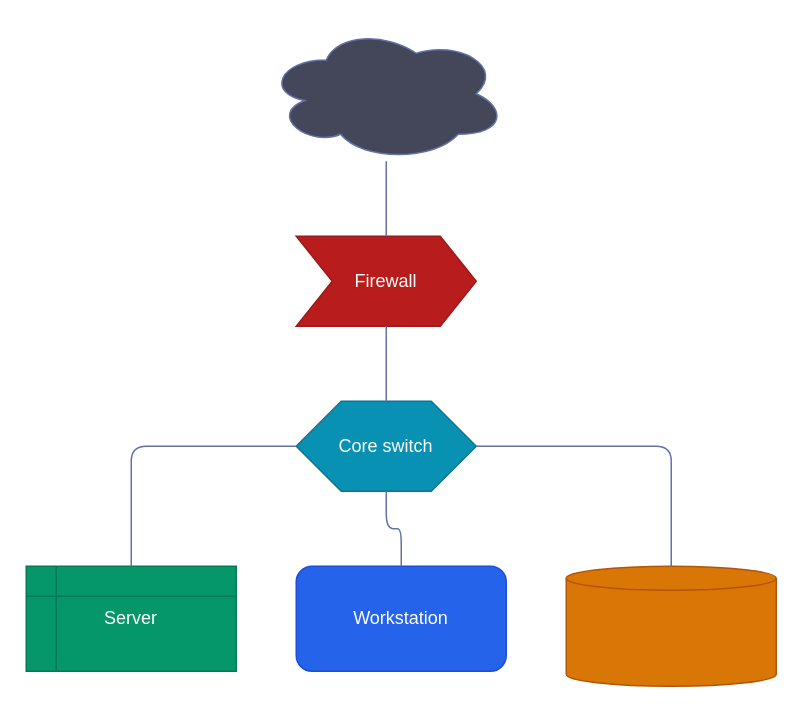
Image size: 803x713. Some labels were removed from this diagram. Each missing label, with the centre of its shape:
"Internet" belongs at pixel 385 93.
"Storage" belongs at pixel 670 625.
